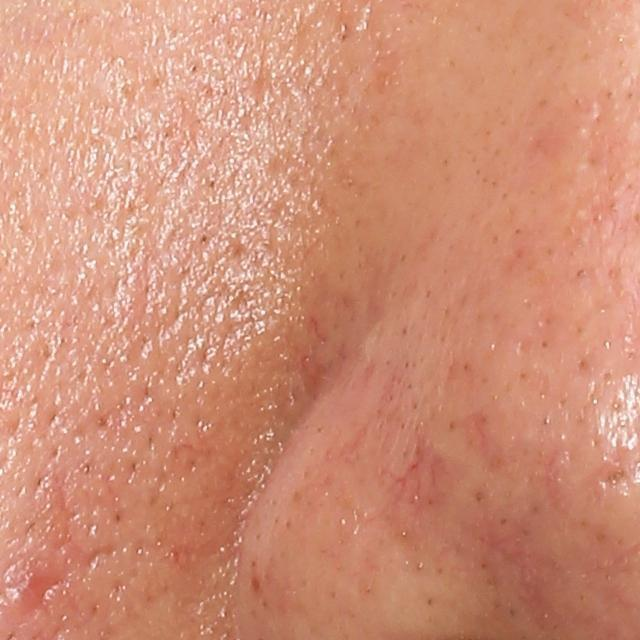papule: (2, 565, 49, 609)
